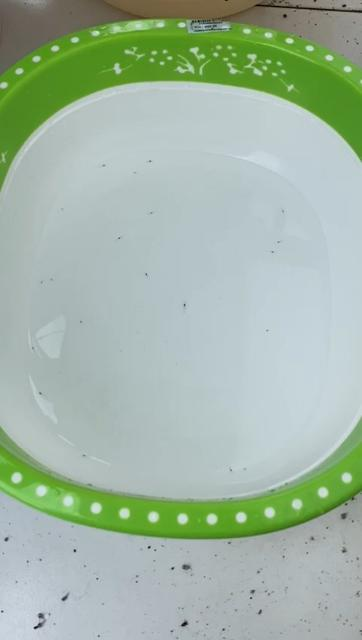benur: (38, 278, 46, 287), (37, 389, 45, 397), (149, 208, 156, 217), (117, 233, 124, 242), (143, 271, 151, 278), (181, 300, 188, 308), (241, 466, 249, 473), (133, 169, 139, 178), (276, 240, 283, 247), (102, 161, 108, 169), (81, 452, 87, 460), (270, 249, 276, 256), (78, 318, 84, 325), (228, 466, 234, 473), (264, 326, 269, 334), (147, 158, 153, 164), (60, 206, 66, 212), (49, 276, 55, 282), (281, 208, 286, 215), (30, 345, 35, 351)
